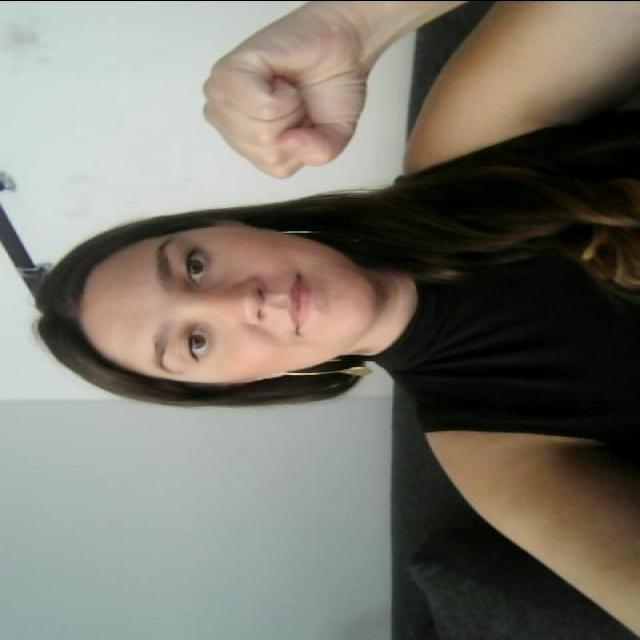Rock: (193, 30, 371, 186)
